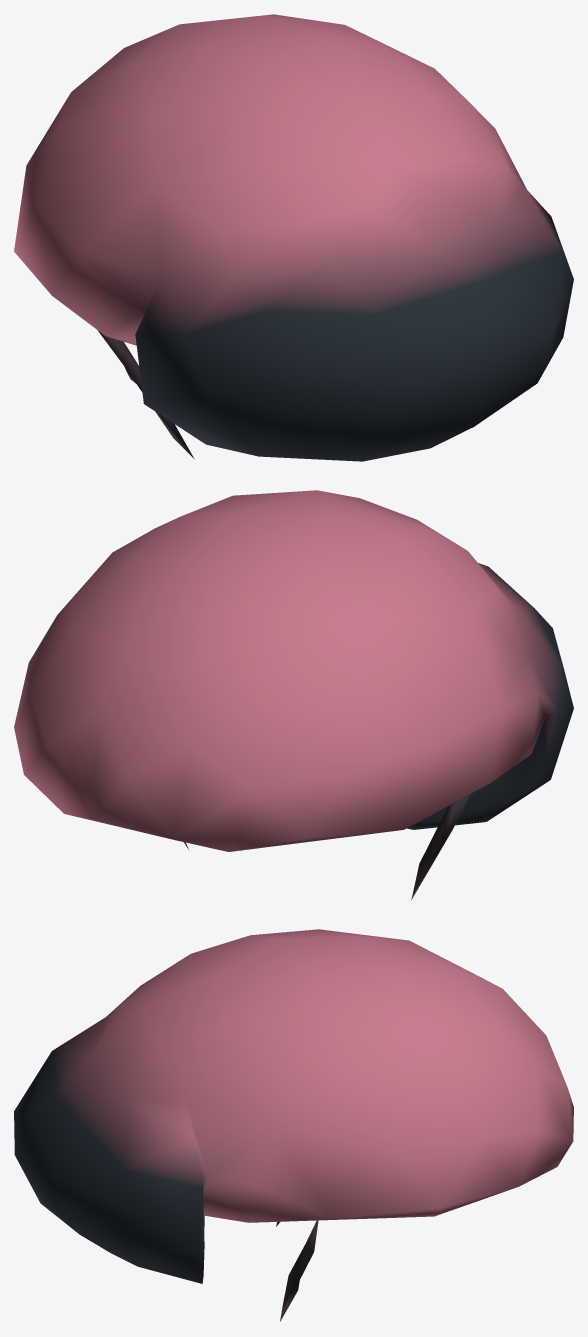
The model's file is mu_hong.glb.
The picture shows the model from 3 angles, top to bottom: view 1: azimuth 30°, elevation 25°; view 2: azimuth 150°, elevation 25°; view 3: azimuth 270°, elevation 25°; orthographic projection. The views are drawn at different scales.
Visible parts, largest first — view 1: mu_hong; view 2: mu_hong; view 3: mu_hong.
Boxes of the visible parts, <box> form: mu_hong: <box>14,14,573,461</box>; mu_hong: <box>14,490,573,899</box>; mu_hong: <box>14,929,573,1321</box>.
Bounding box in the file's own units: 0.2375 × 0.19 × 0.3003.
